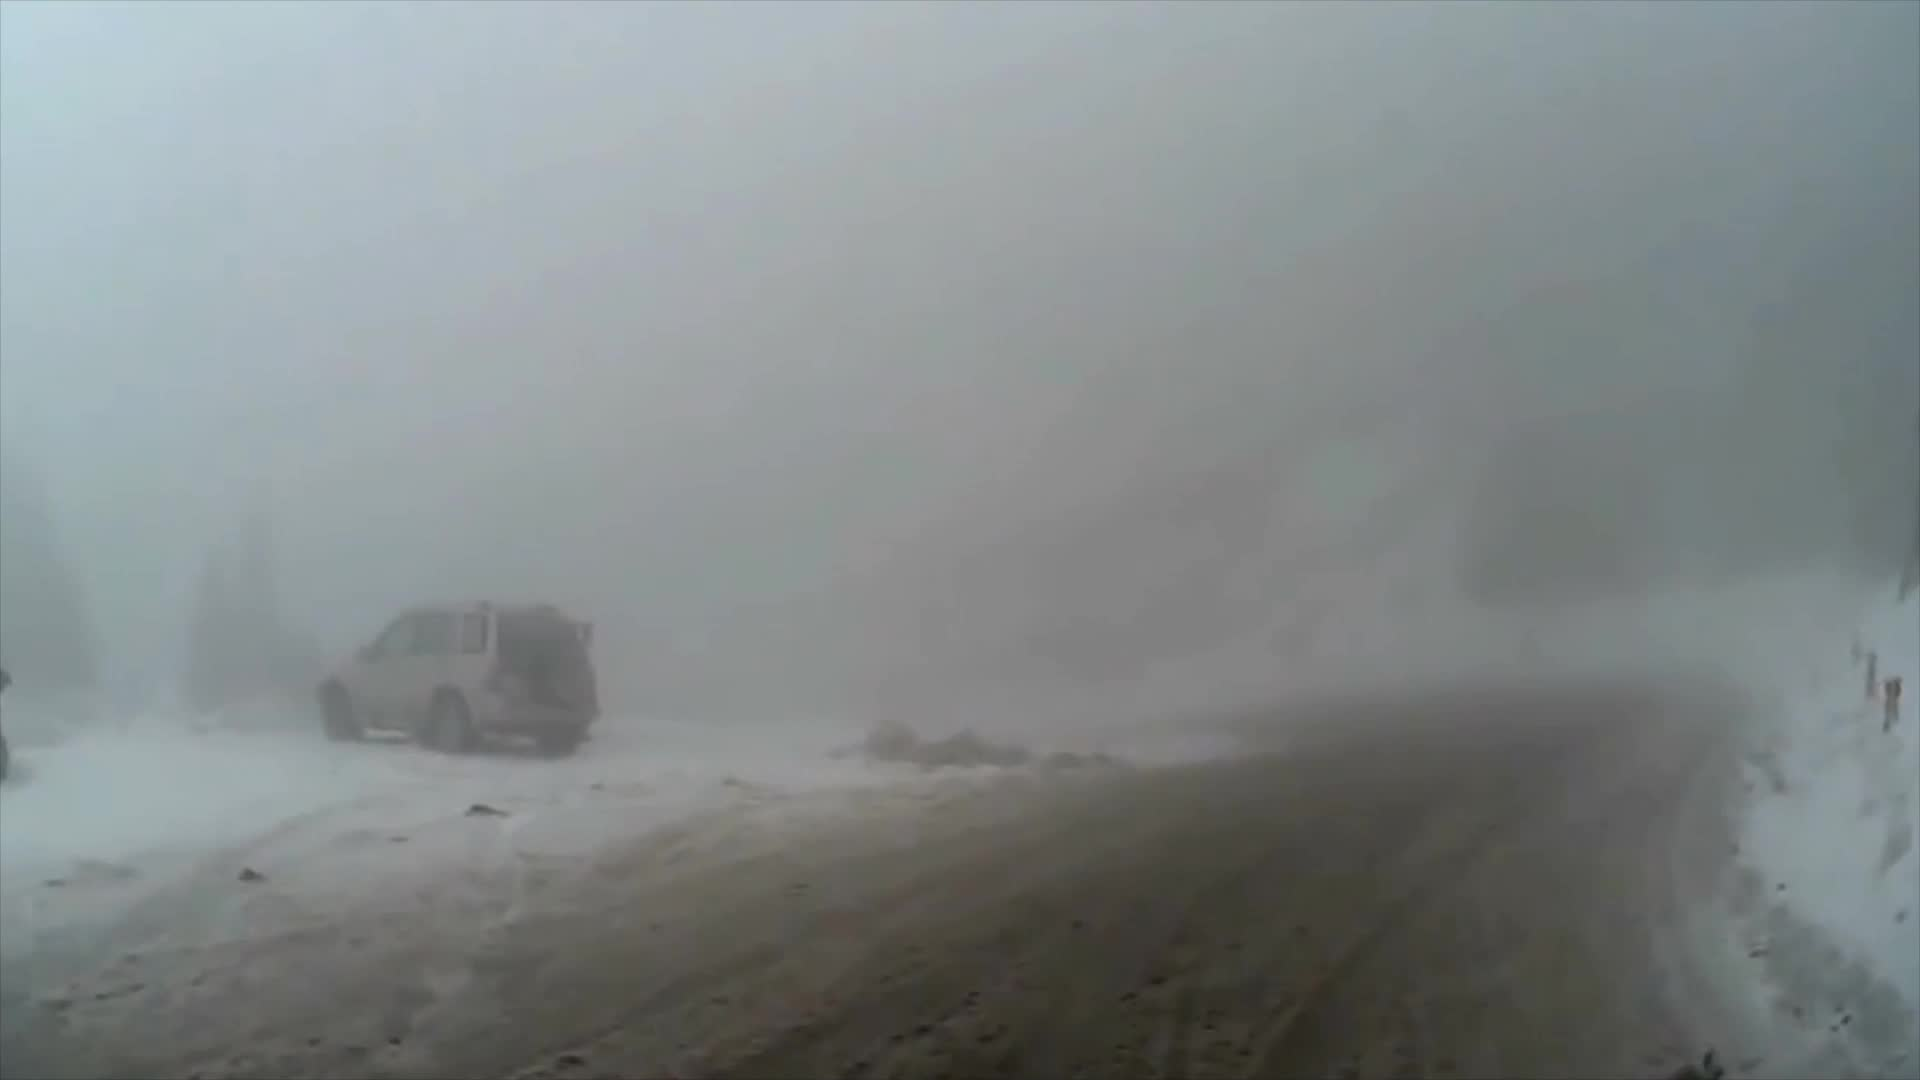vehicle: (309, 596, 593, 766)
